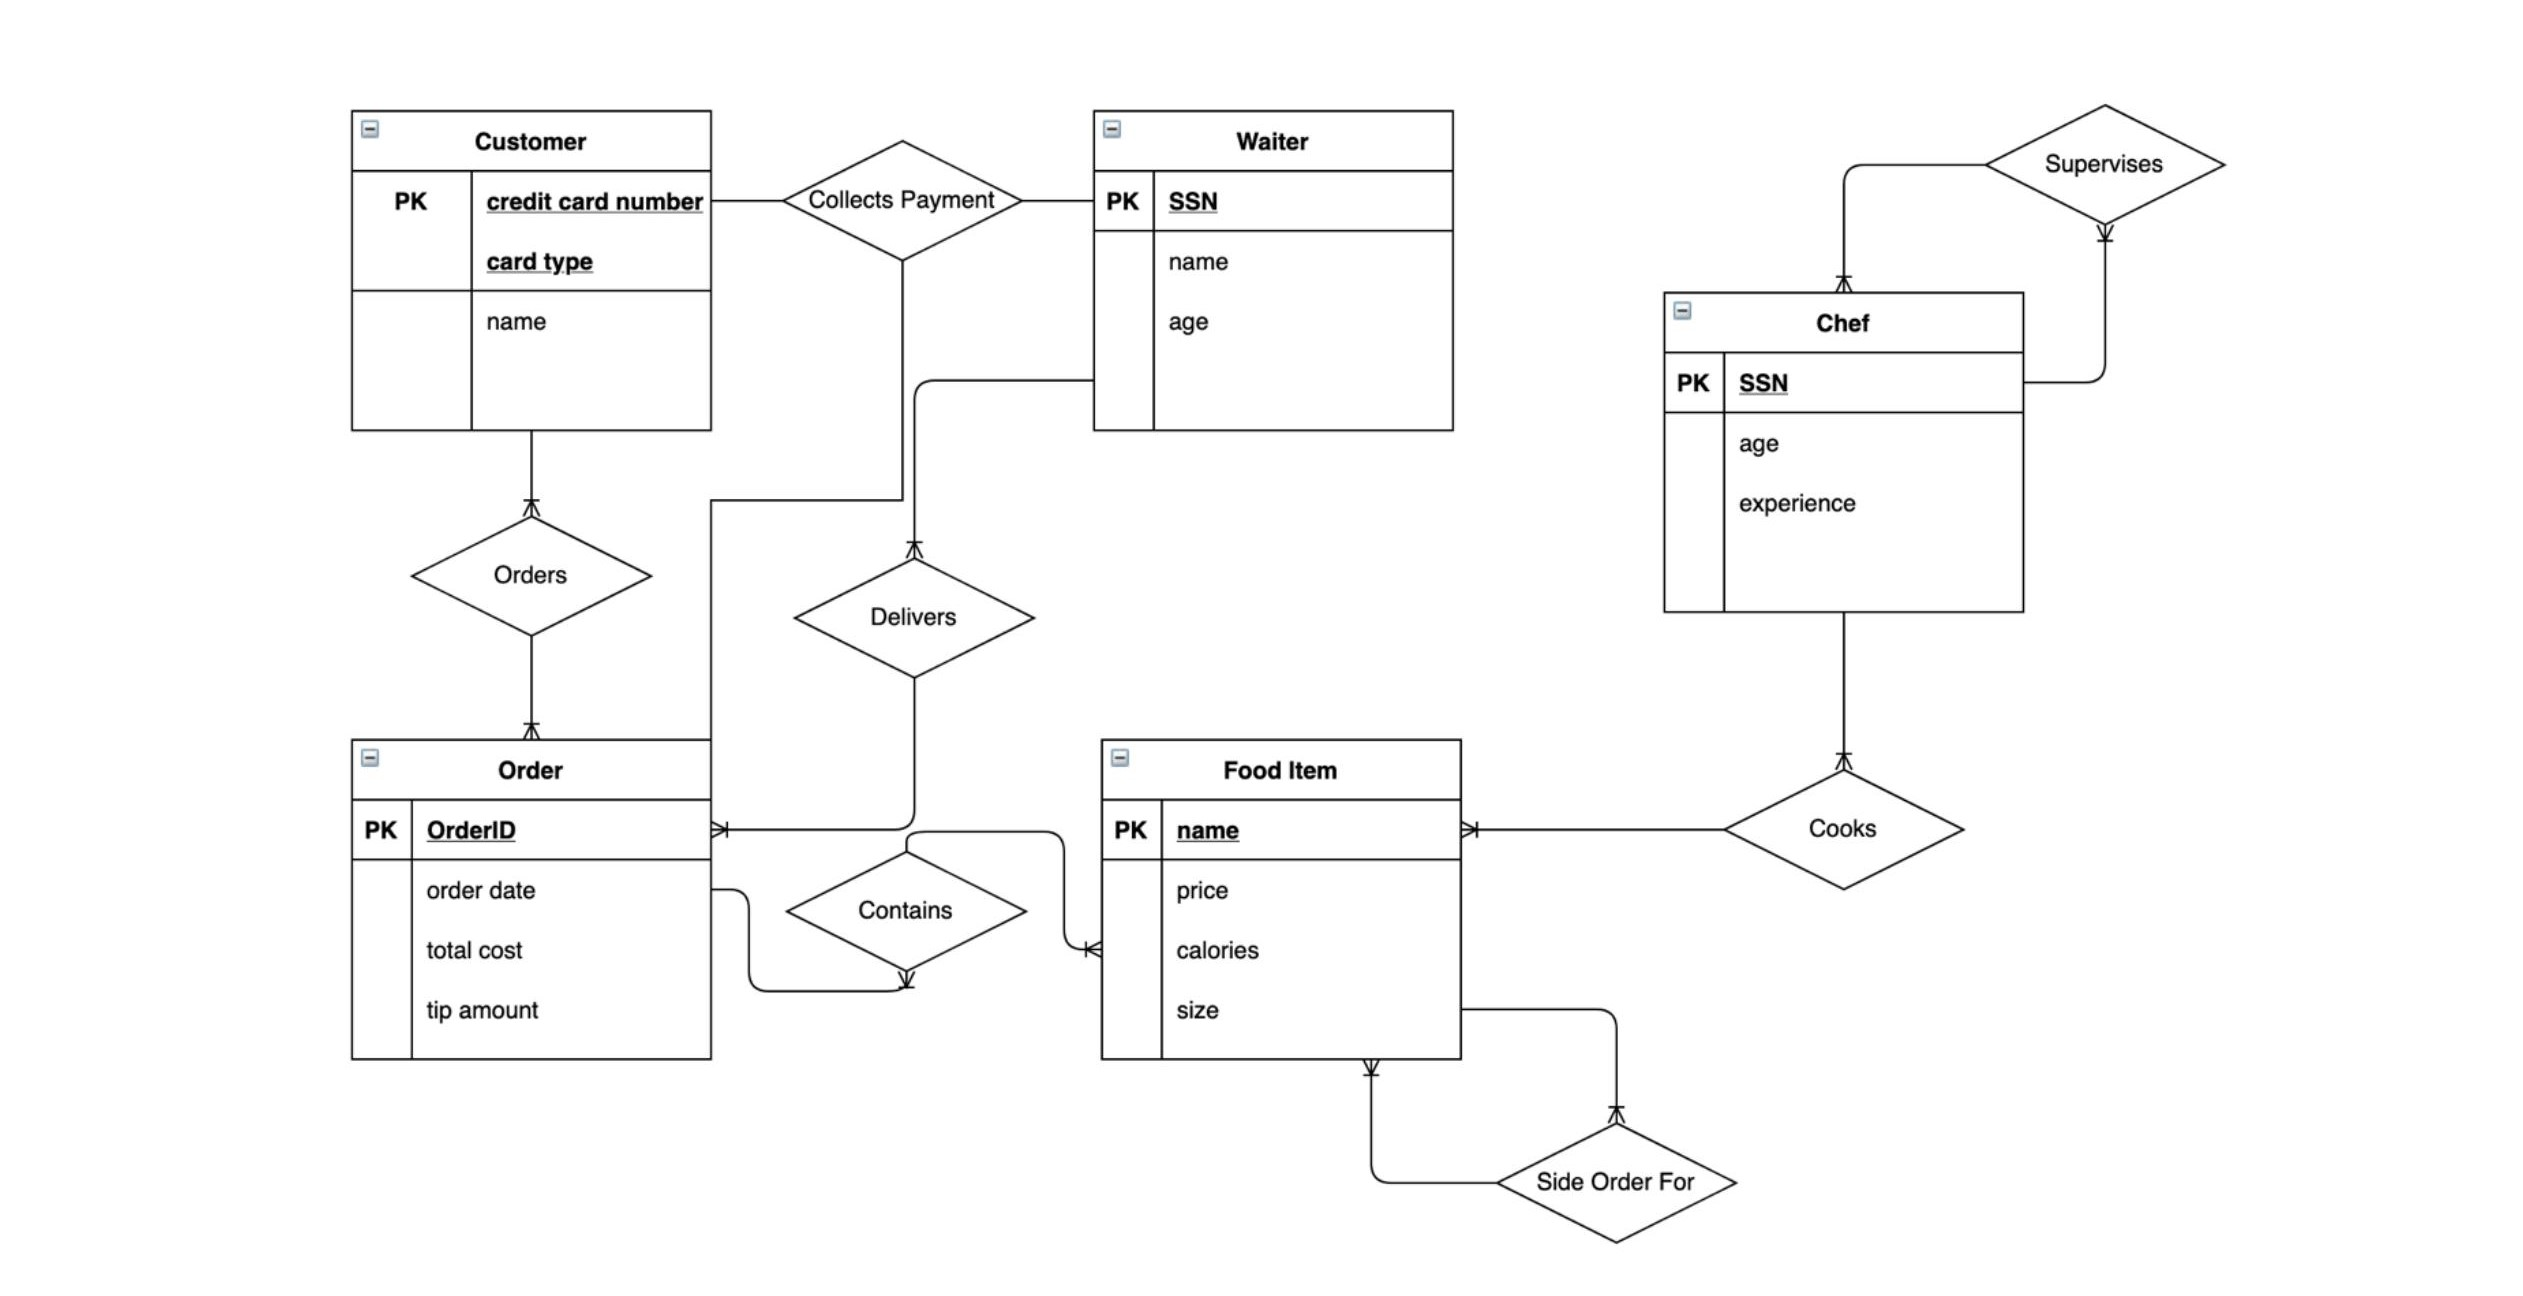Entity: (1099, 736, 1464, 1063), (1090, 107, 1456, 435), (349, 107, 714, 433), (349, 737, 714, 1063), (1661, 289, 2026, 615)
Relationship: (1984, 102, 2227, 225), (1494, 1122, 1738, 1243), (782, 139, 1023, 260), (410, 517, 653, 636), (786, 851, 1028, 970), (1727, 770, 1965, 891), (791, 559, 1034, 674)
